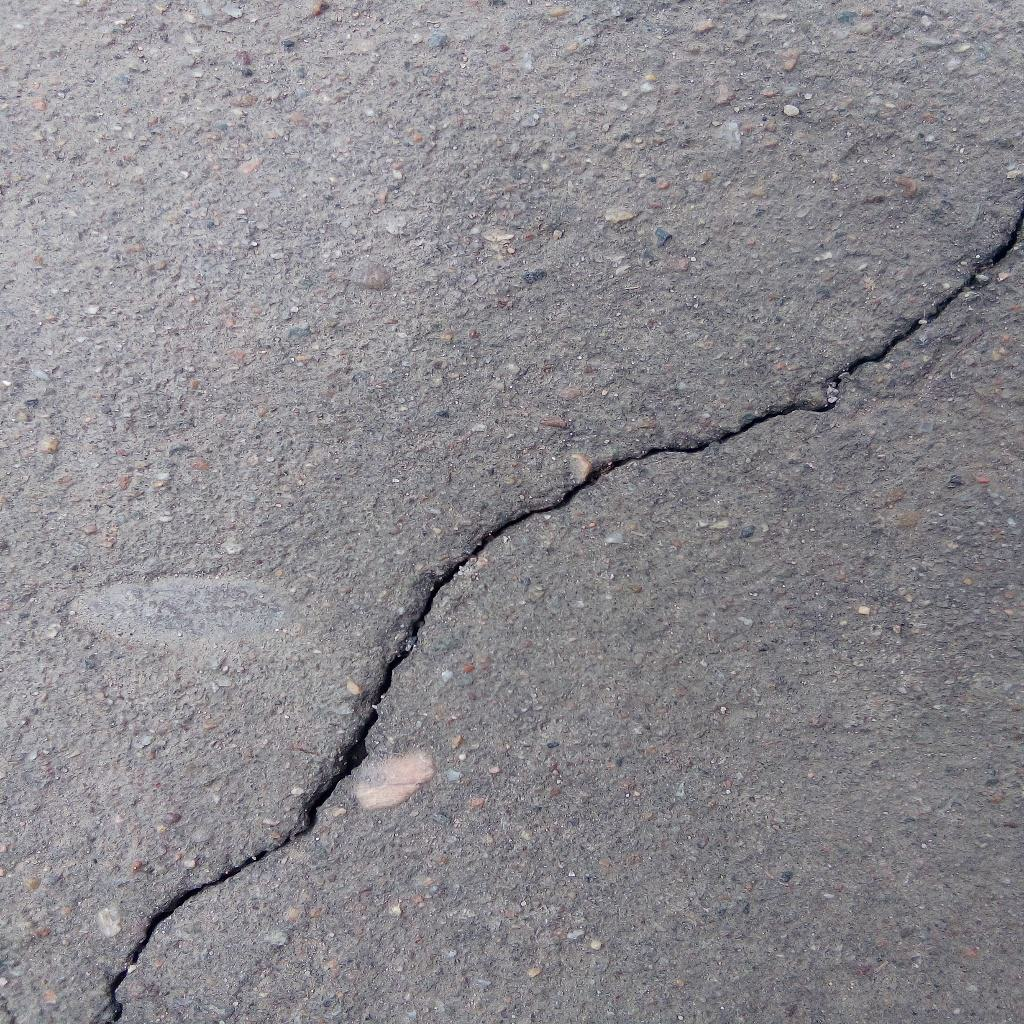Crack: (95, 207, 1024, 1024)
